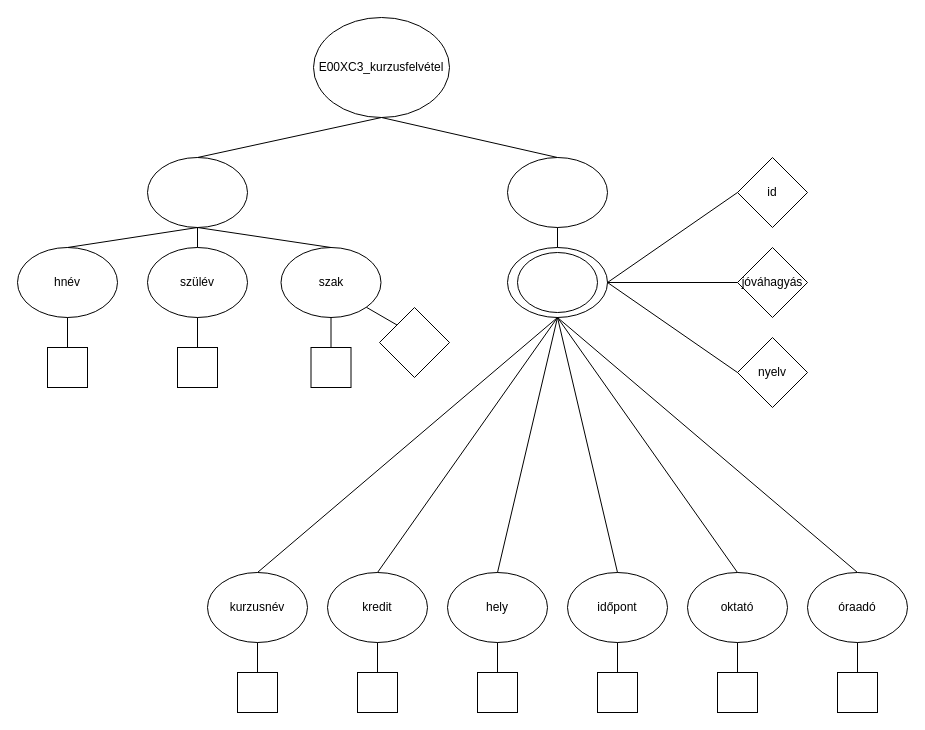
The diagram is 925 pixels wide and 730 high, and some of its shapes have lost their labels. Here are the shapes that lost their labels. From the top down, the box of each, then its label:
(146, 156, 248, 228): hallgató
(506, 156, 608, 228): kurzusok
(516, 252, 598, 312): kurzus
(378, 306, 450, 378): évf
